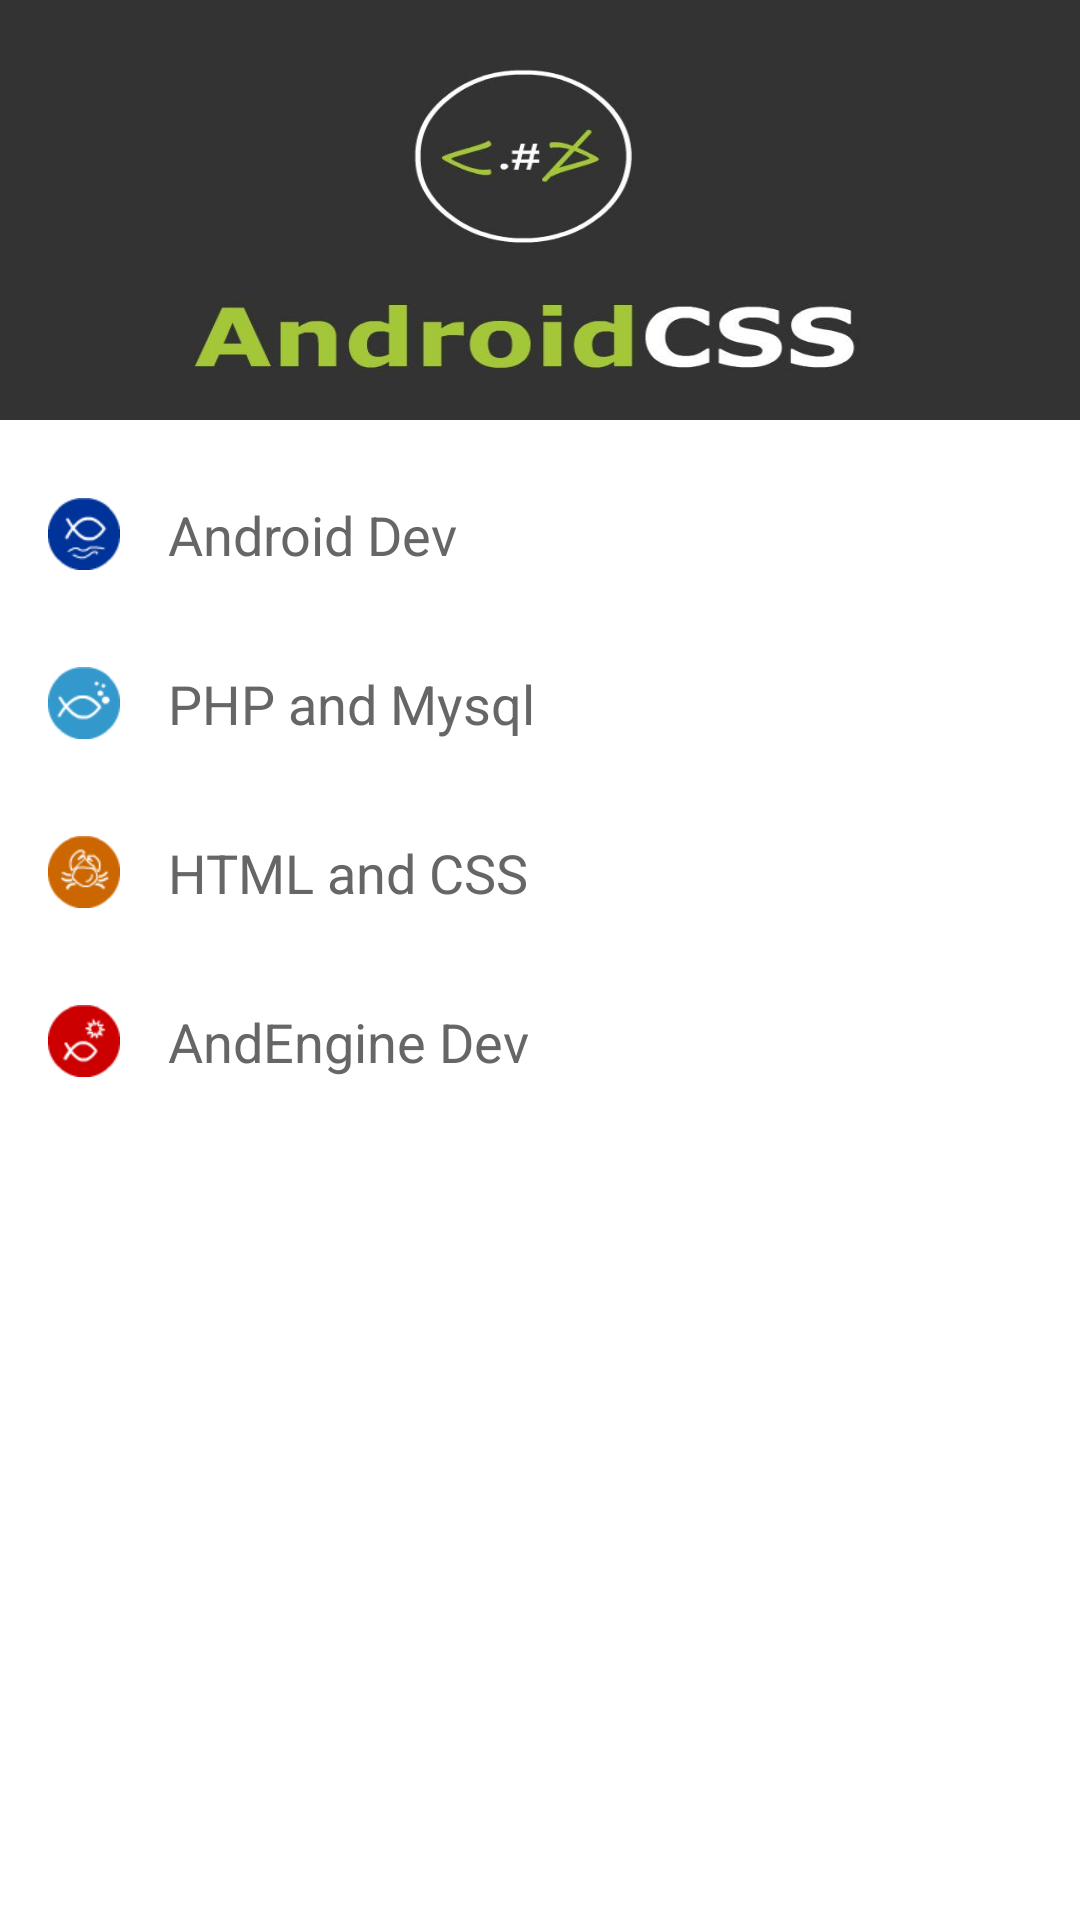

Where to tap for icons on this 1080×1920 app screen, as point (x, y):
dryfish: point (84, 1041)
shellfish: point (84, 872)
